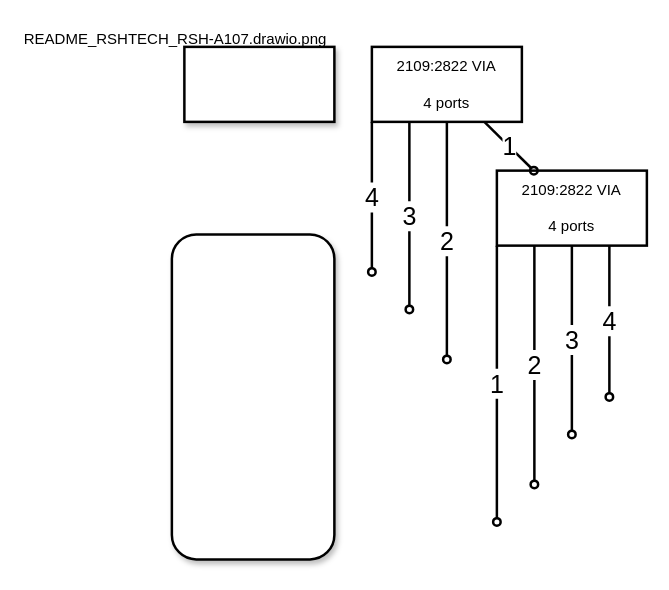
This 669x590 diagram has some shape labels left out. Each missing label, with the centre of its shape:
On bus 480M and on bus 10000M !!!: (x=260, y=85)
plug 1 plug 2 plug 3 plug 4 plug 5 plug 6 plug 7: (x=253, y=398)
